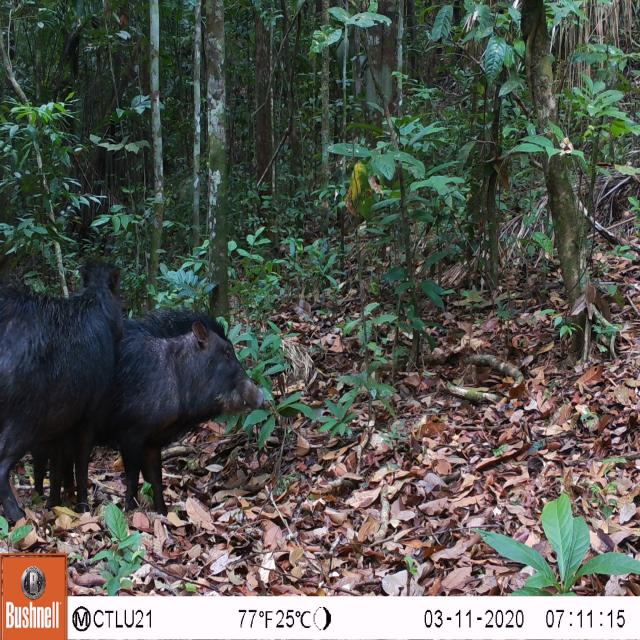White-lipped Peccary: (0, 252, 127, 542), (100, 297, 271, 512)
